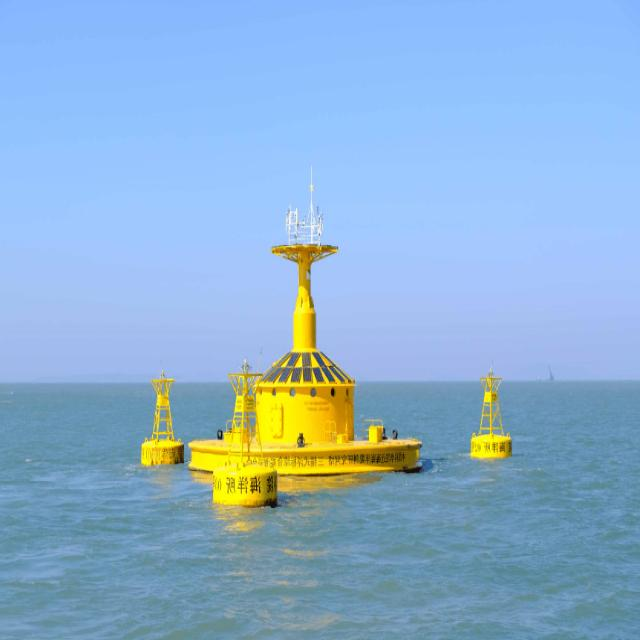buoy: (192, 194, 422, 481), (214, 360, 276, 508), (137, 366, 188, 470), (467, 364, 513, 459)
